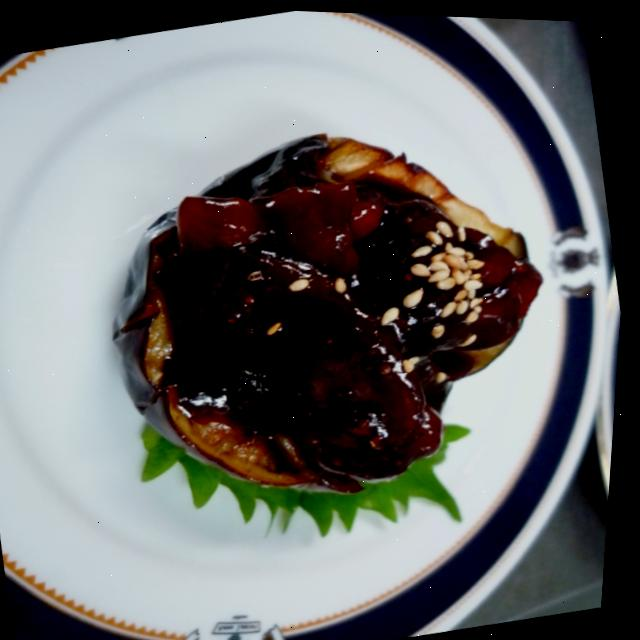鸡蛋料理: (50, 46, 599, 556)
